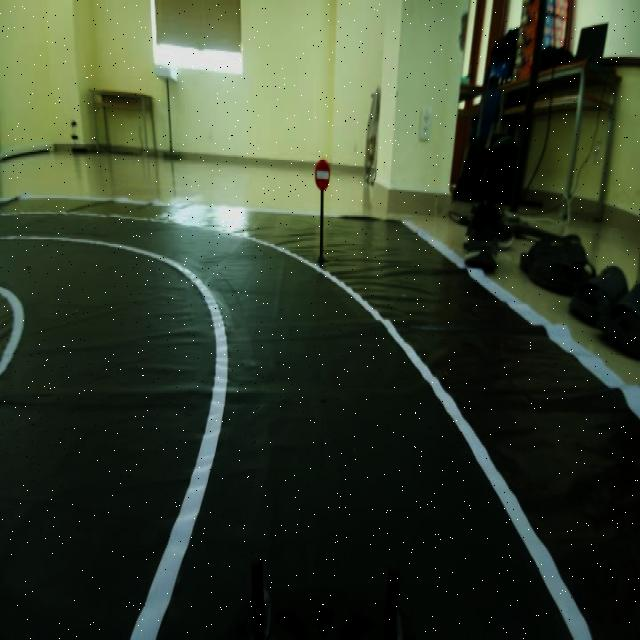no_entry: (310, 156, 336, 200)
